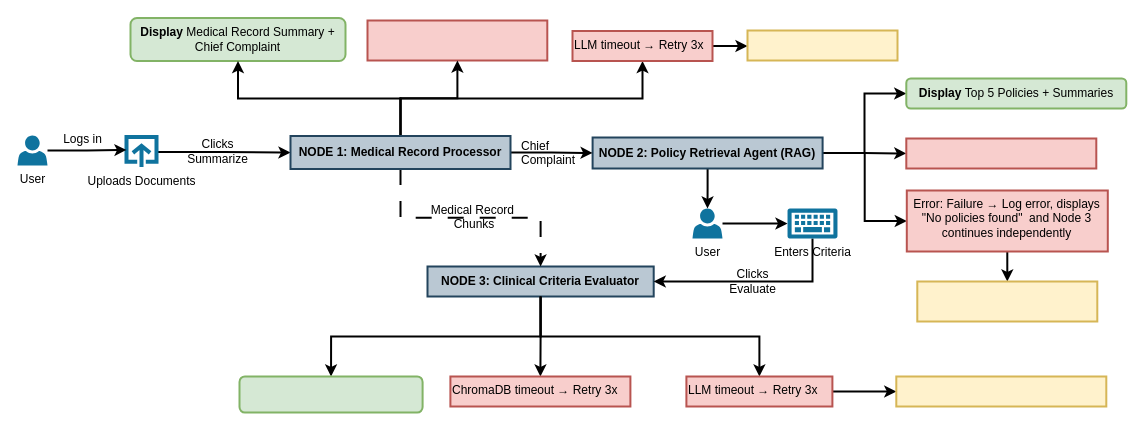
The diagram is 1144 pixels wide and 439 high, and some of its shapes have lost their labels. Each missing label, with the centre of its shape:
Display Status + Reasoning + Evidence table: (330,394)
displays "No policies found" Node 3 continues independently: (1007,301)
Error: Invalid PDF → Show error message in UI: (457,40)
Fallback to basic extraction: (822,45)
If still fails → Mark "Insufficient Data": (1001,391)
Pinecone/LLM timeout → Retry 3x: (1001,153)
